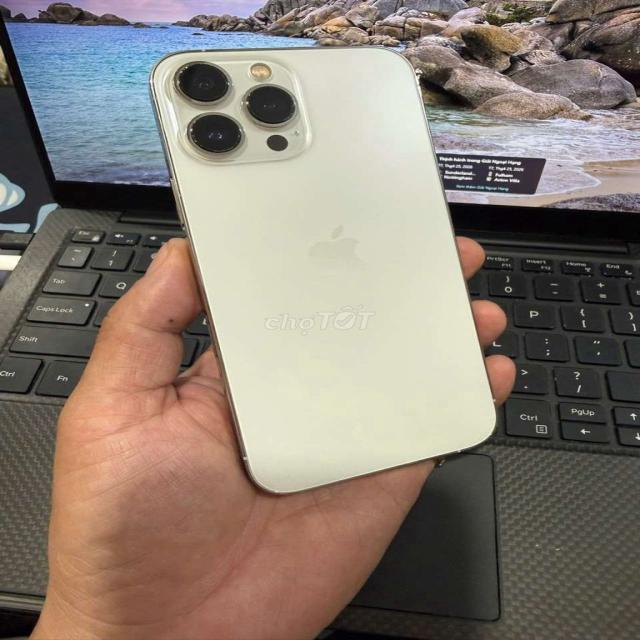gen_12_13: (148, 48, 504, 482)
